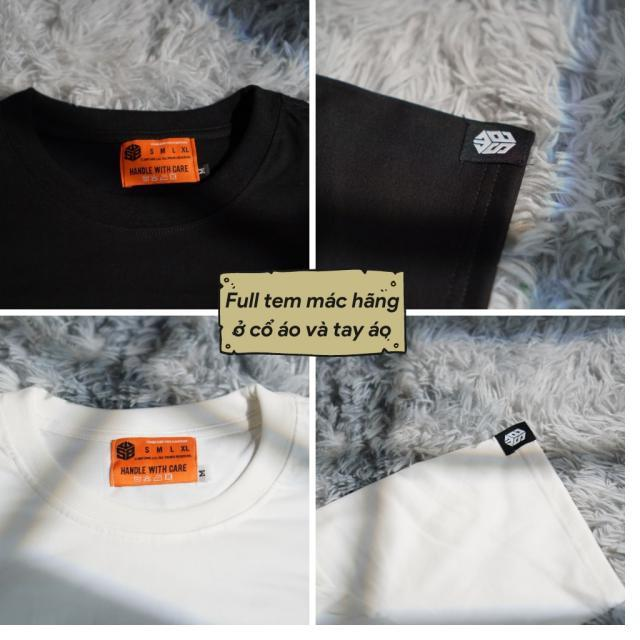Shirt: (0, 381, 314, 625), (0, 80, 318, 306)
